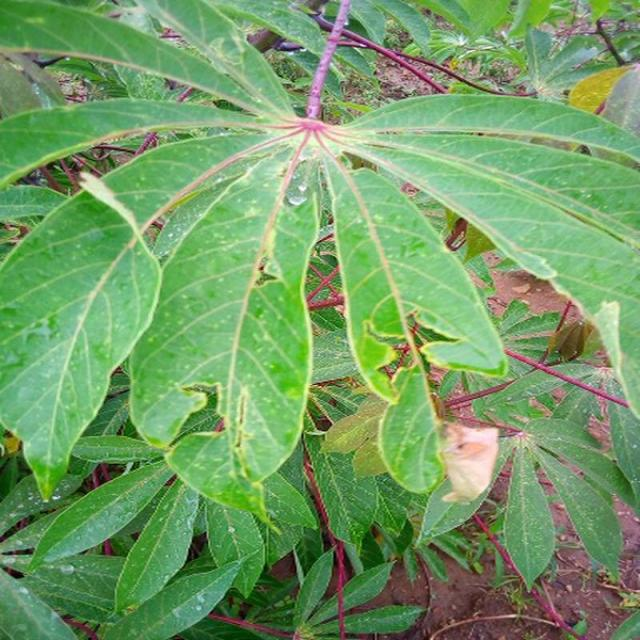cassava leaf: (125, 136, 321, 510), (0, 172, 162, 501), (323, 154, 509, 405)
